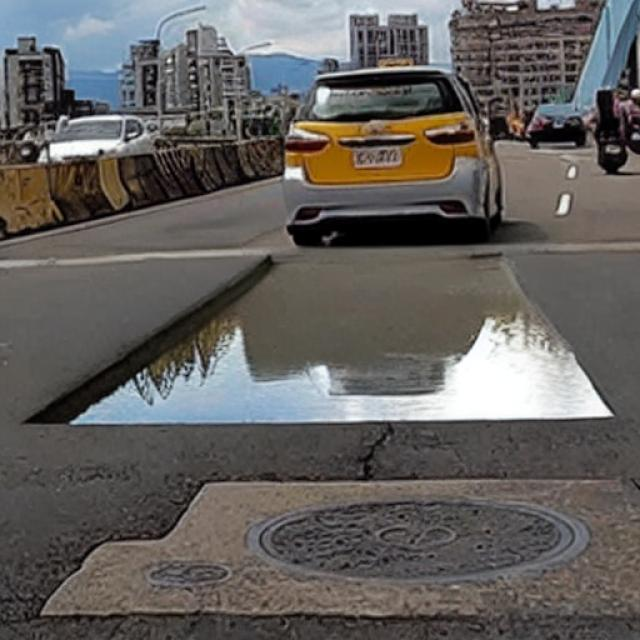puddle: (32, 253, 616, 423)
